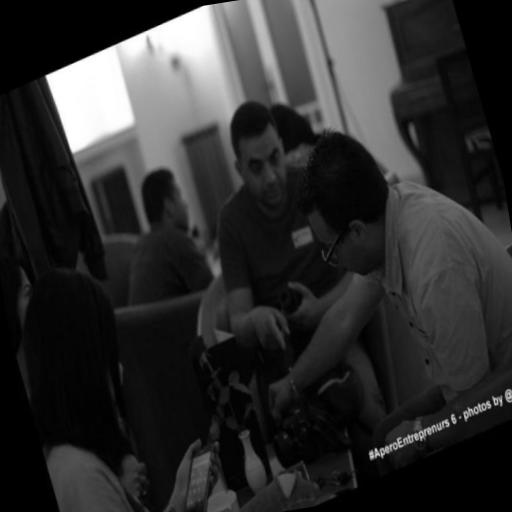phone: (183, 445, 212, 512)
